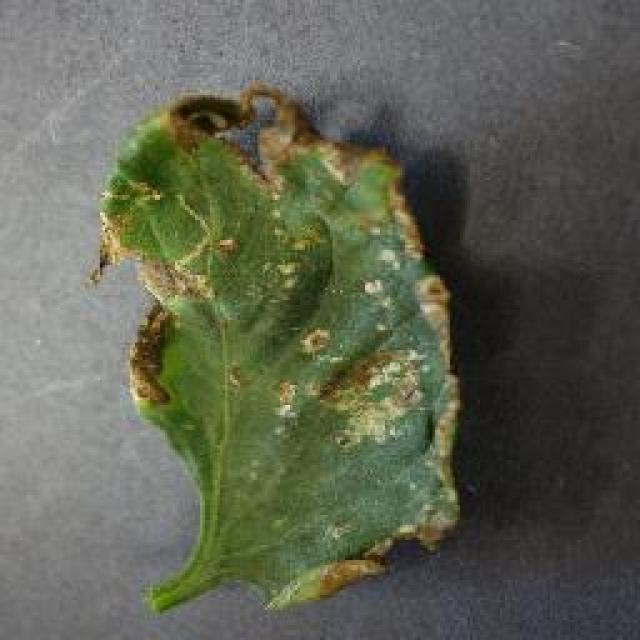Tomato bacterial spot leaf: (103, 112, 465, 618)
